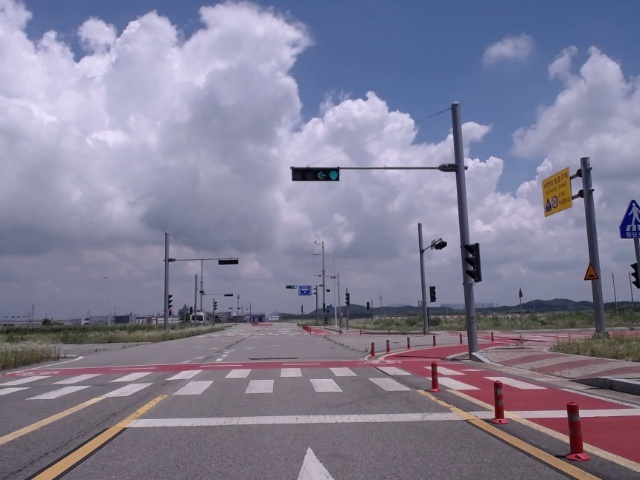all_green_4: (292, 168, 341, 183)
